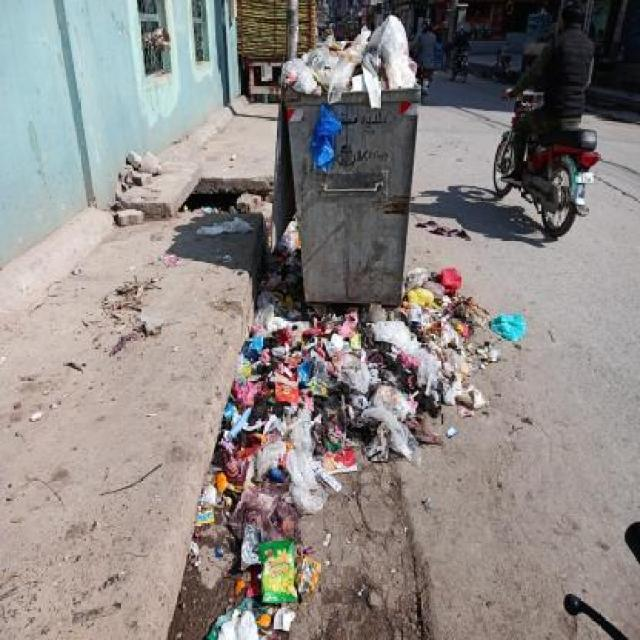garbage: (257, 254, 476, 448), (219, 343, 305, 640), (294, 20, 411, 101), (203, 219, 303, 269)
